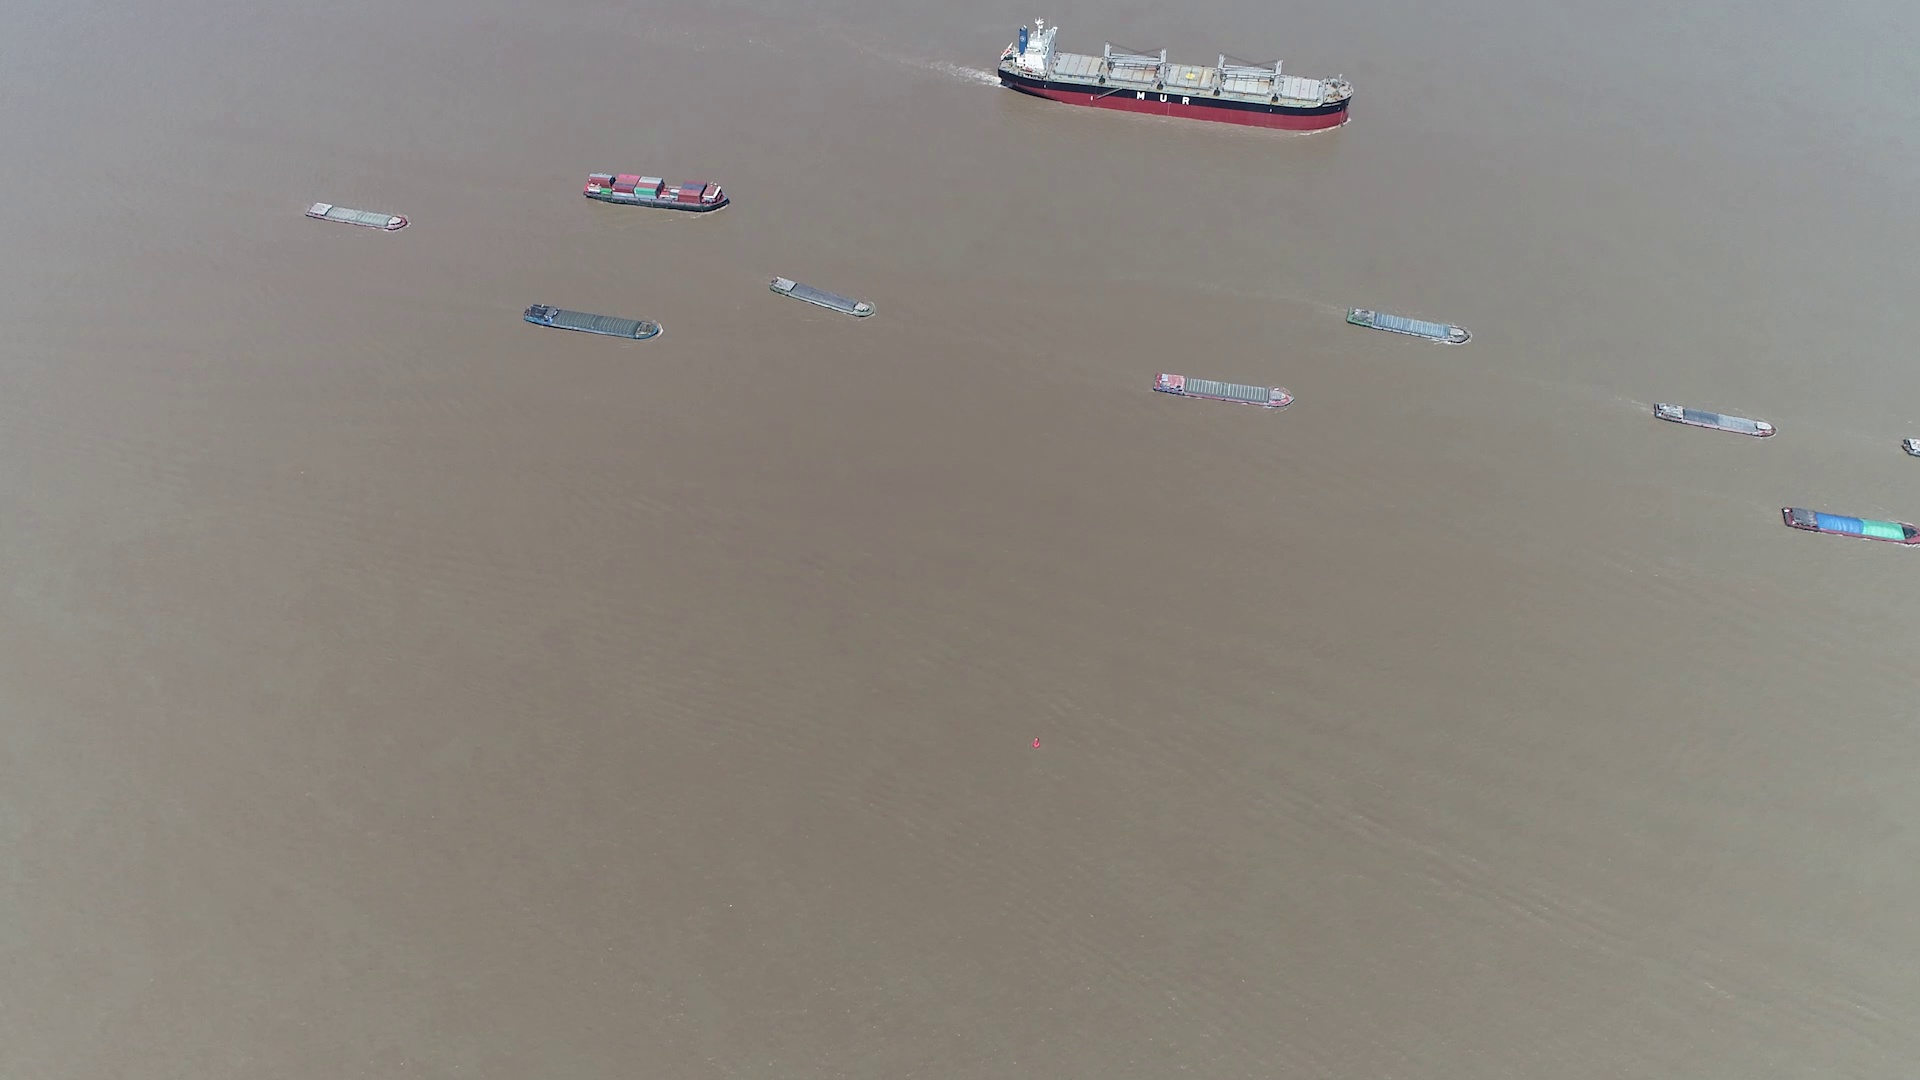ship: (996, 26, 1356, 131), (585, 173, 731, 214), (1780, 504, 1919, 545), (521, 303, 661, 342), (1648, 400, 1778, 440), (1345, 306, 1472, 345), (1151, 372, 1291, 407), (770, 278, 876, 320), (305, 200, 409, 232)
